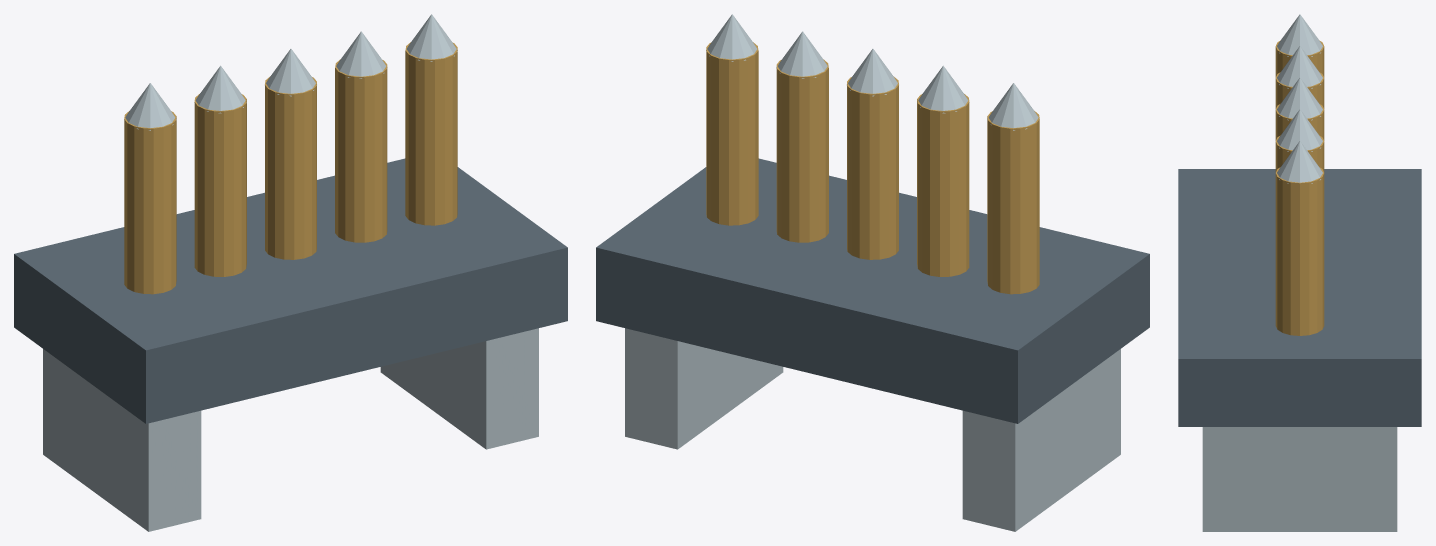
File: ammunition-workshop.glb
3 views of the same model, side by side, from view 1: azimuth 30°, elevation 25°; view 2: azimuth 150°, elevation 25°; view 3: azimuth 270°, elevation 25° (orthographic). The views are drawn at different scales.
Visible parts, largest first — view 1: ammo fabrication bench, bench support, bench support.001, shell casing.003, shell casing.004, shell casing.001, shell casing, shell casing.002, shell tip.003, shell tip.004, shell tip.001, shell tip (+1 smaller); view 2: ammo fabrication bench, bench support, bench support.001, shell casing.003, shell casing.004, shell casing.001, shell casing, shell casing.002, shell tip.003, shell tip.004, shell tip.001, shell tip (+1 smaller); view 3: ammo fabrication bench, bench support.001, shell casing.004, shell tip.004, shell tip, shell tip.002, shell tip.003, shell tip.001, shell casing, shell casing.002, shell casing.003, shell casing.001.
Boxes of the visible parts, x1,y1,x2,y2 form: ammo fabrication bench: (14, 158, 567, 423); bench support: (43, 349, 201, 531); bench support.001: (380, 328, 538, 449); shell casing.003: (335, 59, 387, 242); shell casing.004: (405, 42, 457, 225); shell casing.001: (194, 94, 246, 276); shell casing: (124, 111, 176, 294); shell casing.002: (265, 77, 316, 259); shell tip.003: (336, 31, 387, 78); shell tip.004: (407, 14, 457, 61); shell tip.001: (194, 65, 246, 113); shell tip: (124, 83, 176, 130); ammo fabrication bench: (596, 158, 1149, 423); bench support: (962, 349, 1120, 531); bench support.001: (625, 328, 783, 449); shell casing.003: (776, 59, 828, 242); shell casing.004: (706, 42, 758, 225); shell casing.001: (917, 94, 969, 276); shell casing: (987, 111, 1039, 294); shell casing.002: (847, 77, 898, 259); shell tip.003: (776, 31, 827, 78); shell tip.004: (706, 14, 756, 61); shell tip.001: (917, 65, 969, 113); shell tip: (987, 83, 1039, 130); ammo fabrication bench: (1178, 169, 1421, 426); bench support.001: (1202, 427, 1397, 531); shell casing.004: (1275, 167, 1324, 335); shell tip.004: (1277, 141, 1322, 183); shell tip: (1277, 14, 1322, 56); shell tip.002: (1277, 78, 1322, 120); shell tip.003: (1277, 109, 1322, 151); shell tip.001: (1277, 46, 1322, 88); shell casing: (1275, 40, 1324, 77); shell casing.002: (1275, 104, 1324, 140); shell casing.003: (1275, 135, 1324, 172); shell casing.001: (1275, 72, 1324, 108).
Size of the model in its own units: 1.2 by 1.08 by 0.65.
